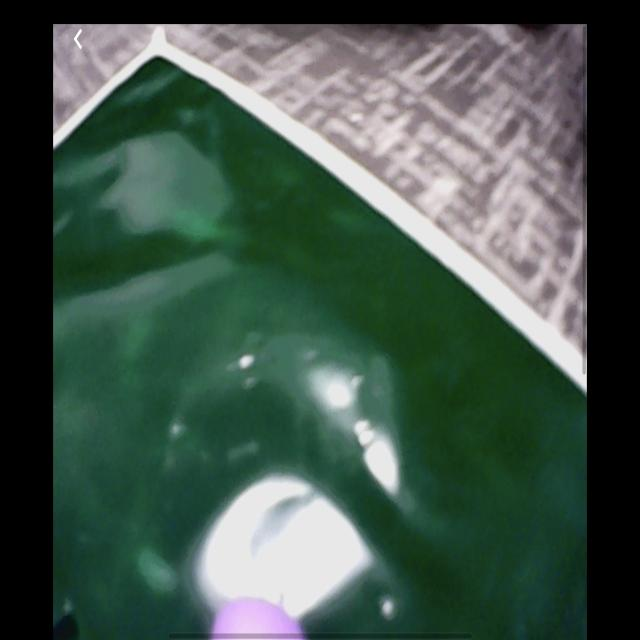ball: (210, 597, 306, 639)
